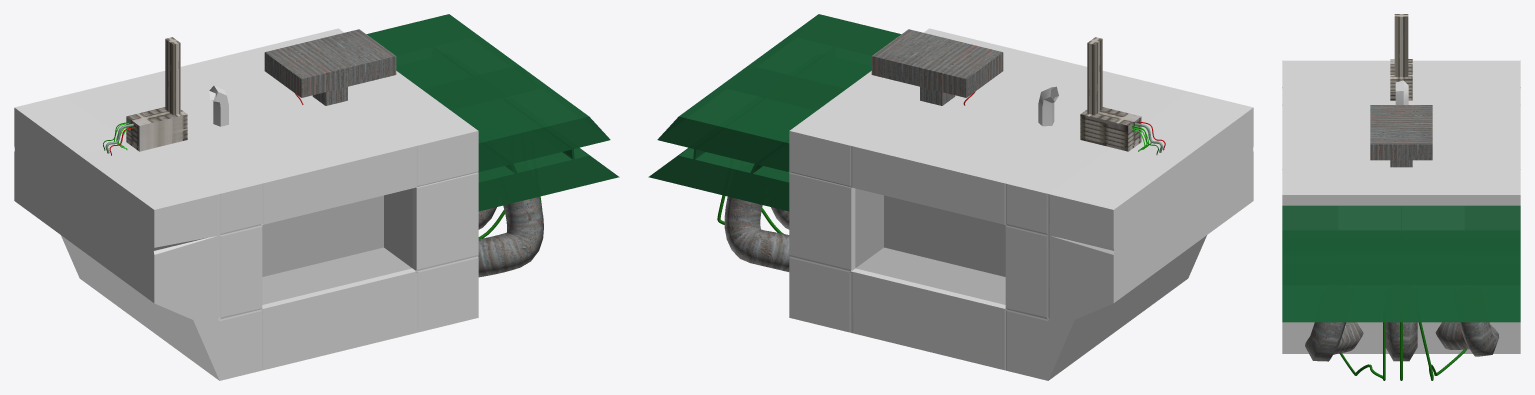
The model's file is OxygenGenerator.fbx.
The picture shows the model from 3 angles, left to right: view 1: azimuth 30°, elevation 25°; view 2: azimuth 150°, elevation 25°; view 3: azimuth 270°, elevation 25°; orthographic projection. The views are drawn at different scales.
Visible parts, largest first — view 1: OxygenGenerator, Cube.001, BézierCurve.011, Cube.006, Circle; view 2: OxygenGenerator, Cube.001, Cube.006, BézierCurve.010, Circle; view 3: OxygenGenerator, Cube.001, BézierCurve.011, BézierCurve.010, Cube.006, BézierCurve.003, BézierCurve.013, BézierCurve.012, Circle.
Part boxes in pixels (<box>): OxygenGenerator: <box>14,14,619,380</box>; Cube.001: <box>264,29,396,105</box>; BézierCurve.011: <box>478,197,543,277</box>; Cube.006: <box>126,37,187,151</box>; Circle: <box>209,85,228,126</box>; OxygenGenerator: <box>648,14,1253,380</box>; Cube.001: <box>871,29,1003,105</box>; Cube.006: <box>1080,37,1141,151</box>; BézierCurve.010: <box>724,196,789,271</box>; Circle: <box>1038,86,1058,126</box>; OxygenGenerator: <box>1282,60,1520,353</box>; Cube.001: <box>1370,105,1432,167</box>; BézierCurve.011: <box>1305,322,1363,361</box>; BézierCurve.010: <box>1435,322,1499,356</box>; Cube.006: <box>1390,14,1412,100</box>; BézierCurve.003: <box>1385,322,1417,361</box>; BézierCurve.013: <box>1339,322,1385,380</box>; BézierCurve.012: <box>1418,322,1466,380</box>; Circle: <box>1395,80,1408,104</box>.
Size of the model in its own units: 287 by 167 by 150.
